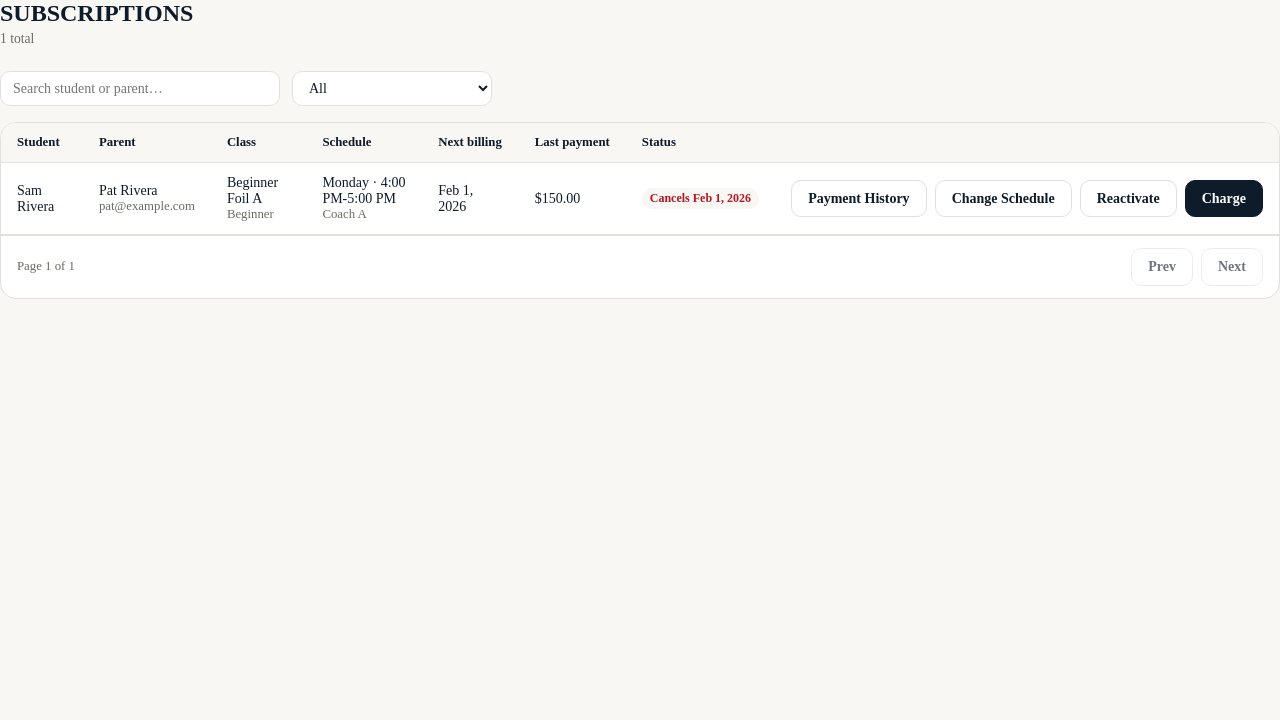
AdminSubscriptionsPage › reactivate flow: confirm dialog shows the copy, submits, and reloads
Expected: the text "Sam Rivera" is shown, [1,162,83,234]
Click the button "Reactivate" at (1128, 198), box [1080,180,1177,217]
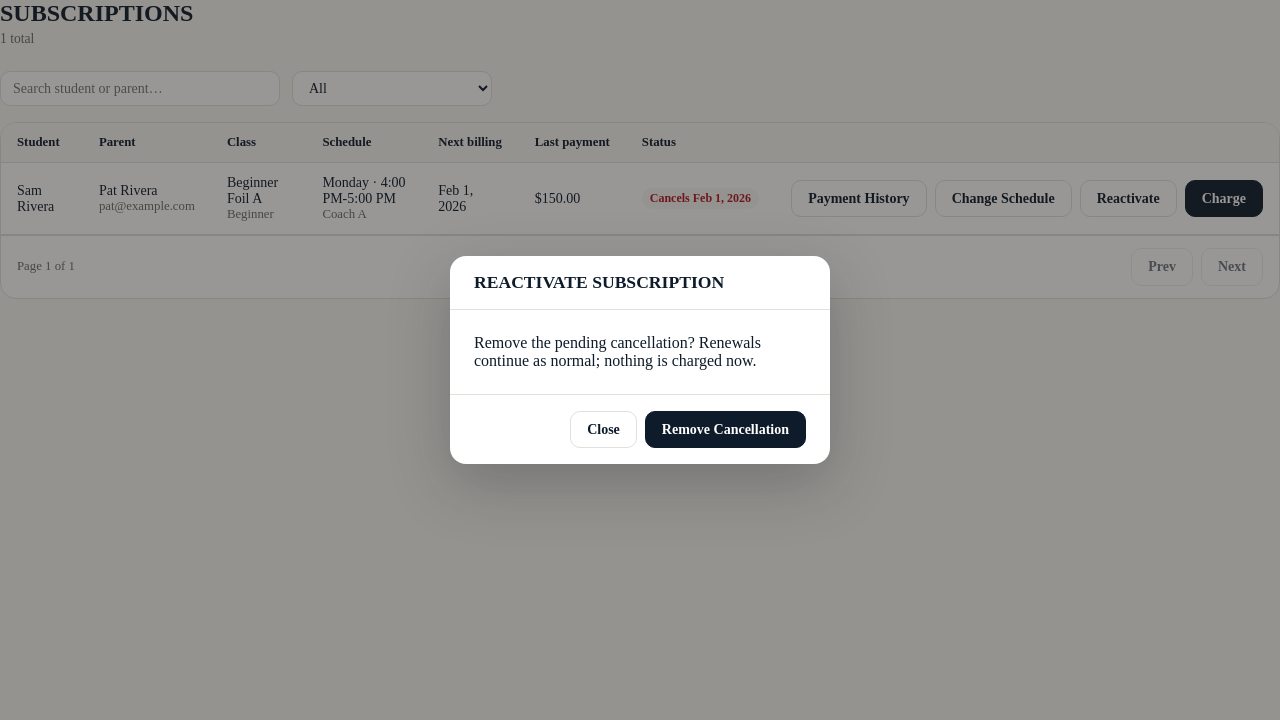
Now the text "nothing is charged now" is shown, box [474,334,761,369]
Click the button "Remove Cancellation" at (725, 430), box [645,411,806,448]
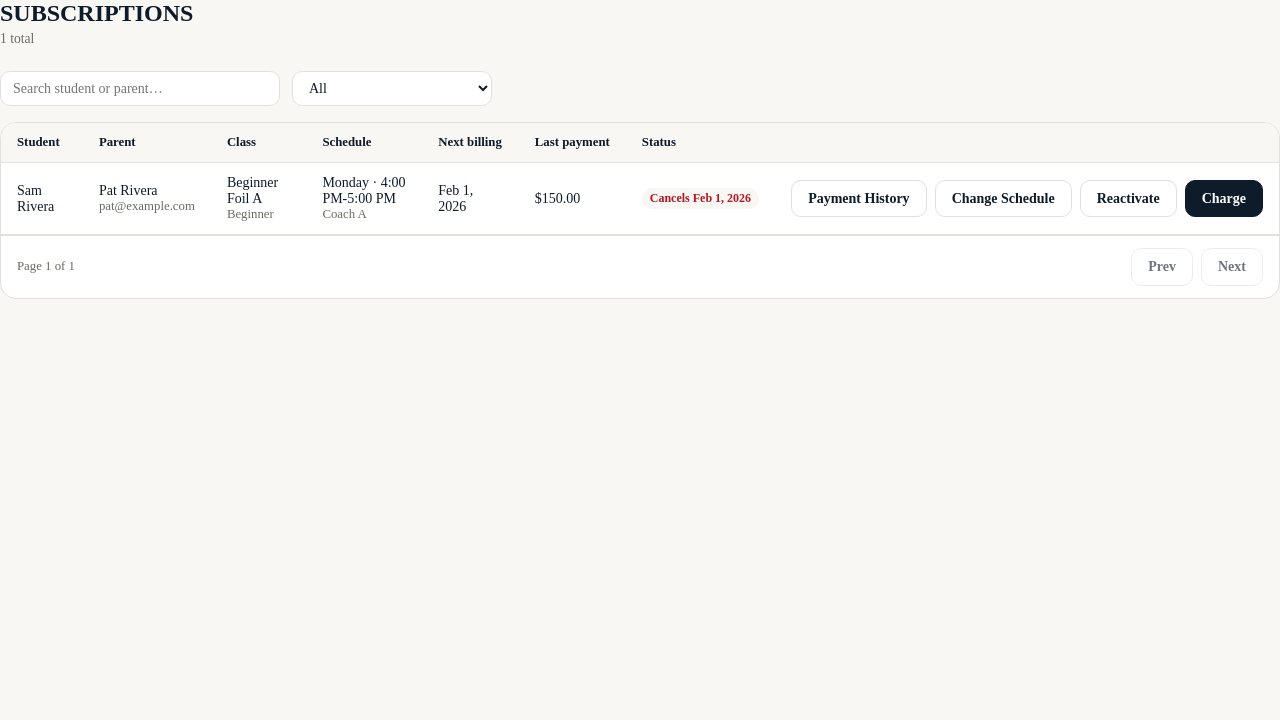
Now the heading "Reactivate Subscription" is gone
